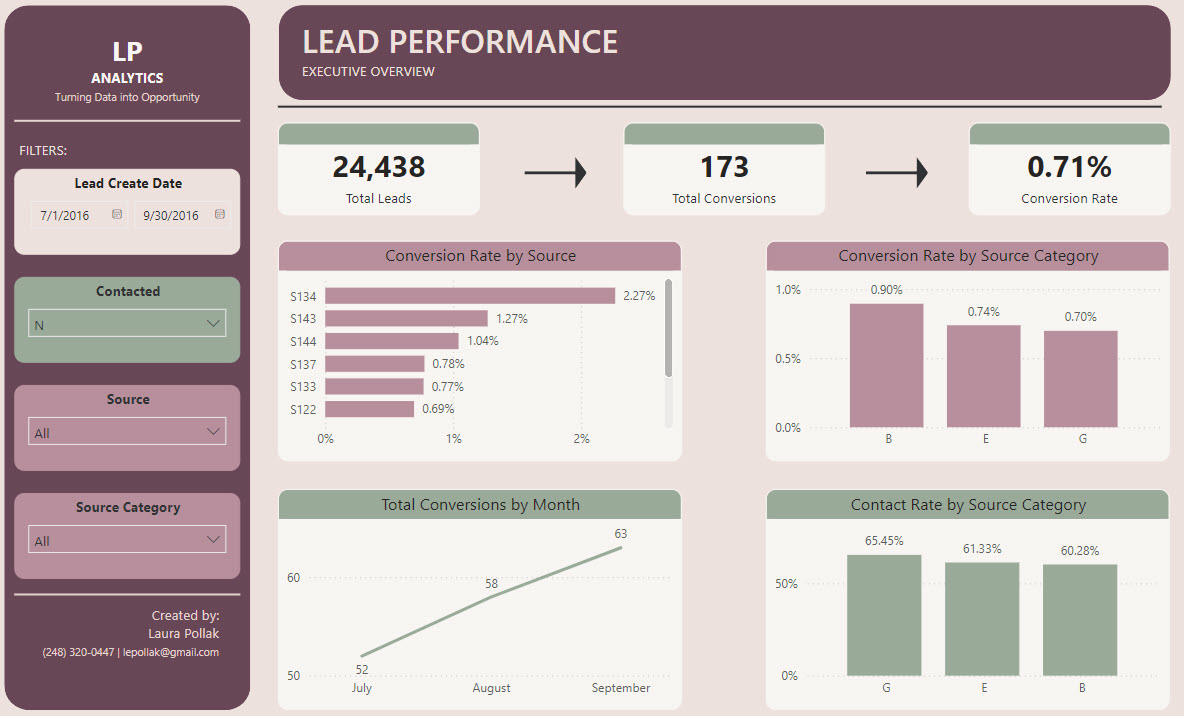

The dashboard page shown, as its layout file describes it:
{"tool":"powerbi","page":{"name":"Page 1","canvas":[1280,720],"ordinal":0},"visuals":[{"type":"shape","box":[290,15,883,94],"z":0},{"type":"shape","box":[18,15,244,698],"z":1000},{"type":"card","title":" ","fields":{"Values":["Leads.Total Leads"]},"box":[289,131.1,200,92],"z":2000},{"type":"card","title":" ","fields":{"Values":["Leads.Total Conversions"]},"box":[631,131.1,200,92],"z":3000},{"type":"card","title":" ","fields":{"Values":["Leads.Conversion Rate"]},"box":[973,131.1,200,92],"z":4000},{"type":"clusteredBarChart","fields":{"Category":["Leads.Source"],"Y":["Leads.Conversion Rate"]},"box":[289,248,400,219],"z":5000},{"type":"lineChart","fields":{"Category":["Leads.Lead_Creation_Date.Variation.Date Hierarchy.Year","Leads.Lead_Creation_Date.Variation.Date Hierarchy.Month"],"Y":["Leads.Total Conversions"]},"box":[289,494,400,219],"z":6000},{"type":"slicer","title":"Contacted","fields":{"Values":["Leads.Contacted"]},"box":[28,284,224,85],"z":7000},{"type":"clusteredColumnChart","title":"Conversion Rate by Source Category","fields":{"Category":["Leads.Source_Category"],"Y":["Leads.Conversion Rate"]},"box":[772,248,400,219],"z":8000},{"type":"textbox","box":[308,23,332,76],"z":9000},{"type":"slicer","title":"Source","fields":{"Values":["Leads.Source"]},"box":[28,391,224,85],"z":10000},{"type":"shape","box":[290,100,882,31],"z":11000},{"type":"shape","box":[533,165,62,32],"z":12000},{"type":"shape","box":[871,165,62,32],"z":13000},{"type":"slicer","title":"Source Category","fields":{"Values":["Leads.Source_Category"]},"box":[28,498,224,85],"z":14000},{"type":"slicer","title":"Lead Create Date","fields":{"Values":["Leads.Lead_Creation_Date"]},"box":[28,177,224,85],"z":15000},{"type":"clusteredColumnChart","title":"Contact Rate by Source Category","fields":{"Category":["Leads.Source_Category"],"Y":["Leads.Contact Rate"]},"box":[772,494,400,219],"z":15001},{"type":"textbox","box":[44,37,192,93],"z":15002},{"type":"shape","box":[28,114,224,31],"z":15003},{"type":"textbox","box":[28,143.7,69,31],"z":15004},{"type":"shape","box":[28,583,224,31],"z":15005},{"type":"textbox","box":[44,604,192,100],"z":15006}]}

Visuals, with their boxes on the page's 1280x720 design canvas (x1, y1, x2, y2). These are canvas units, not pixel positions in the 1184x716 screenshot, which may show the page scaled, cropped or inside an application window:
shape: crop(290, 15, 1173, 109)
shape: crop(18, 15, 262, 713)
" " card: crop(289, 131, 489, 223)
" " card: crop(631, 131, 831, 223)
" " card: crop(973, 131, 1173, 223)
clusteredBarChart - Leads.Source x Leads.Conversion Rate: crop(289, 248, 689, 467)
lineChart - Leads.Lead_Creation_Date.Variation.Date Hierarchy.Year x Leads.Lead_Creation_Date.Variation.Date Hierarchy.Month: crop(289, 494, 689, 713)
"Contacted" slicer: crop(28, 284, 252, 369)
"Conversion Rate by Source Category" clusteredColumnChart: crop(772, 248, 1172, 467)
textbox: crop(308, 23, 640, 99)
"Source" slicer: crop(28, 391, 252, 476)
shape: crop(290, 100, 1172, 131)
shape: crop(533, 165, 595, 197)
shape: crop(871, 165, 933, 197)
"Source Category" slicer: crop(28, 498, 252, 583)
"Lead Create Date" slicer: crop(28, 177, 252, 262)
"Contact Rate by Source Category" clusteredColumnChart: crop(772, 494, 1172, 713)
textbox: crop(44, 37, 236, 130)
shape: crop(28, 114, 252, 145)
textbox: crop(28, 144, 97, 175)
shape: crop(28, 583, 252, 614)
textbox: crop(44, 604, 236, 704)
